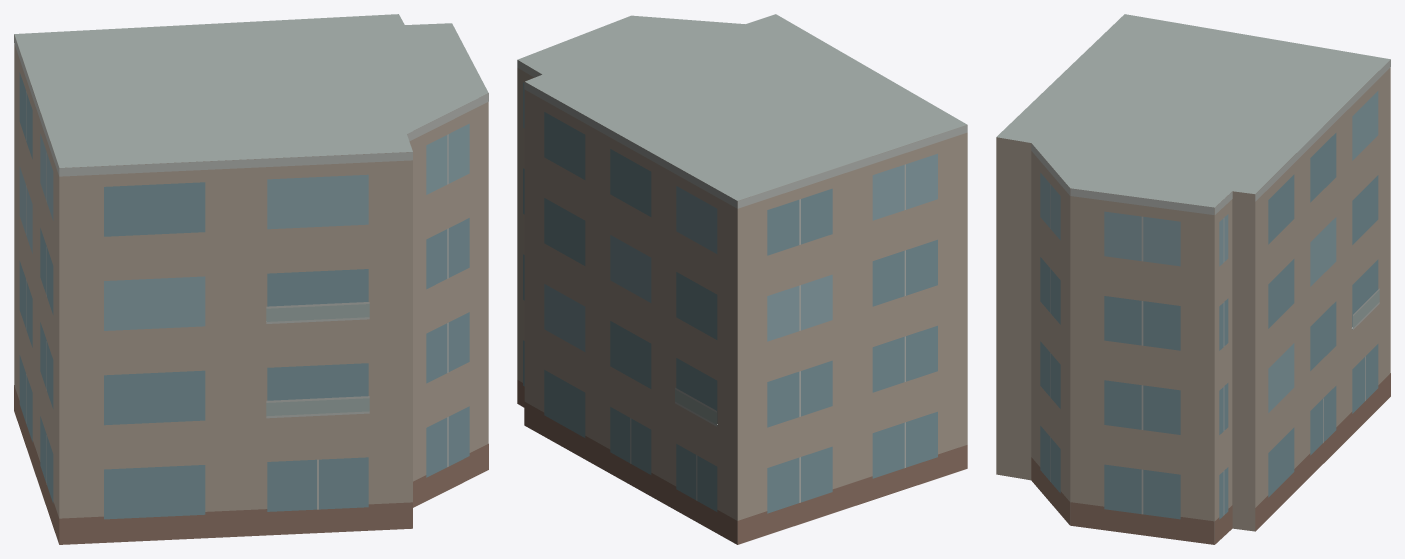
File: survey-upis-32505038.glb
The picture shows the model from 3 angles, left to right: view 1: azimuth 30°, elevation 25°; view 2: azimuth 150°, elevation 25°; view 3: azimuth 270°, elevation 25°; orthographic projection. The views are drawn at different scales.
Visible parts, largest first — view 1: survey-upis-32505038.tmp; view 2: survey-upis-32505038.tmp; view 3: survey-upis-32505038.tmp.
Boxes of the visible parts, x1,y1,x2,y2 form: survey-upis-32505038.tmp: [14, 14, 488, 544]; survey-upis-32505038.tmp: [517, 14, 967, 544]; survey-upis-32505038.tmp: [996, 14, 1390, 544].
Bounding box in the file's own units: 13.17 × 10.7 × 11.35.
